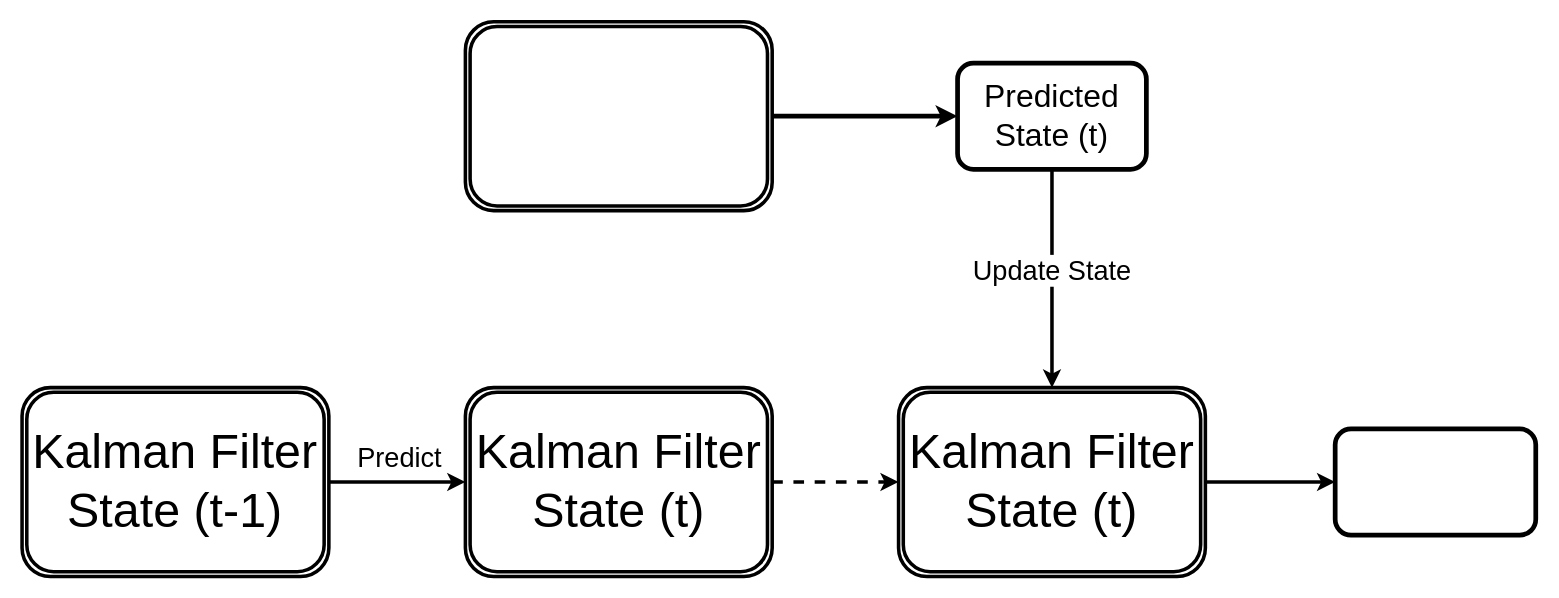
This 1559x598 diagram has some shape labels left out. The centre of each missing label's shape, as x and y in pixels:
"ML Model (t)" belongs at (618,115).
"Refined Prediction (t)" belongs at (1435,481).
